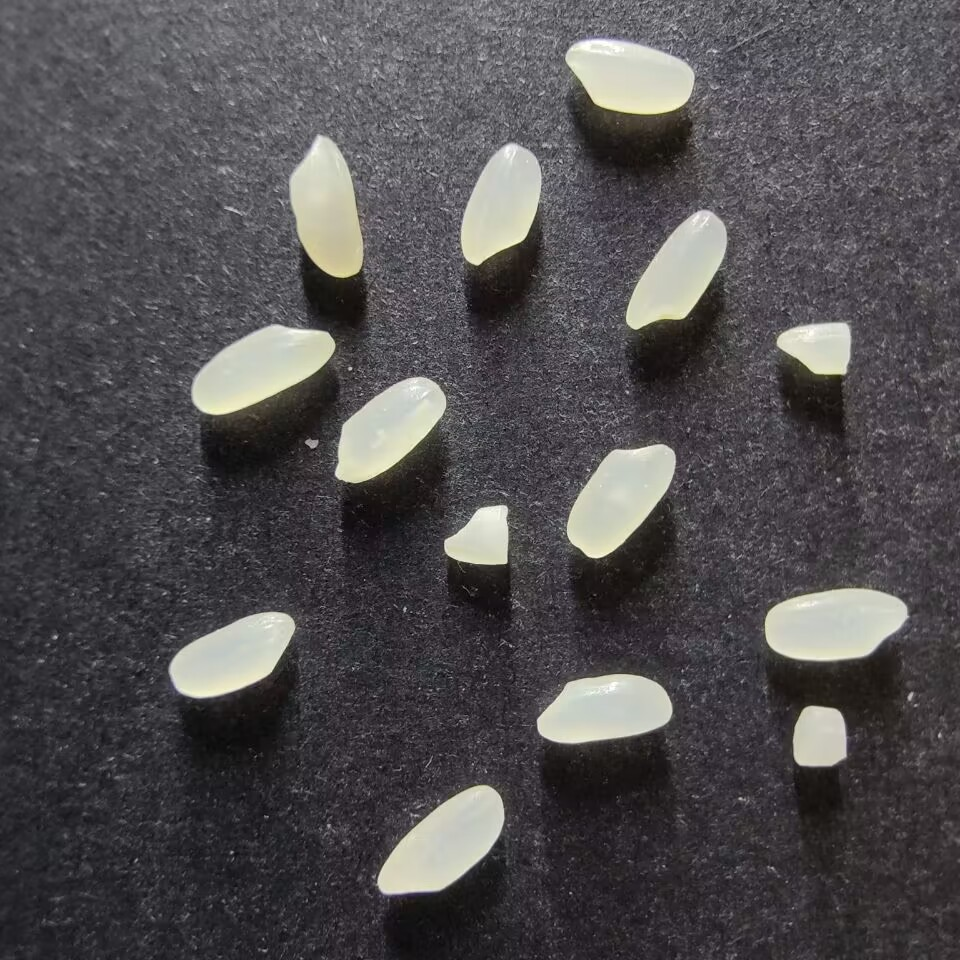broken: (442, 504, 509, 567), (775, 321, 852, 375), (791, 703, 847, 768)
rice: (377, 784, 505, 896), (190, 322, 335, 415), (565, 443, 676, 558), (625, 208, 728, 330), (333, 375, 447, 484), (168, 610, 295, 698), (288, 135, 364, 279), (764, 588, 908, 662), (460, 143, 541, 266), (563, 39, 694, 114), (535, 674, 672, 743)
